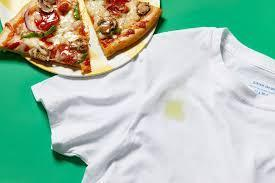mustard: (160, 94, 186, 120)
